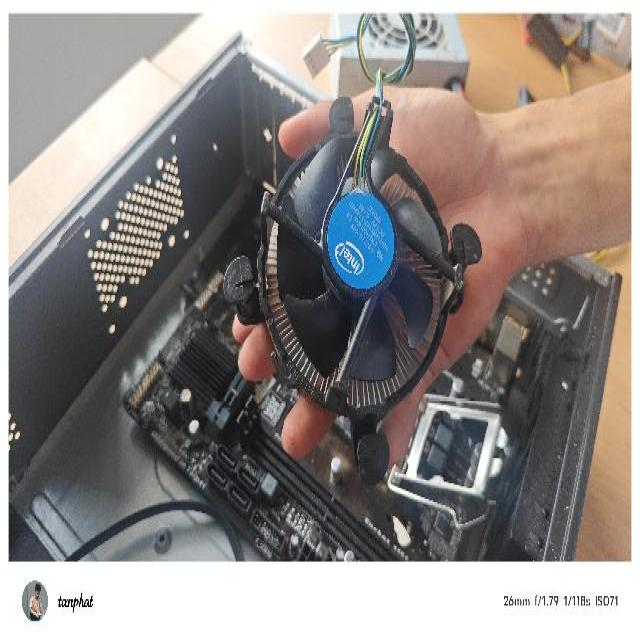CPU_Fan: (223, 91, 482, 488)
